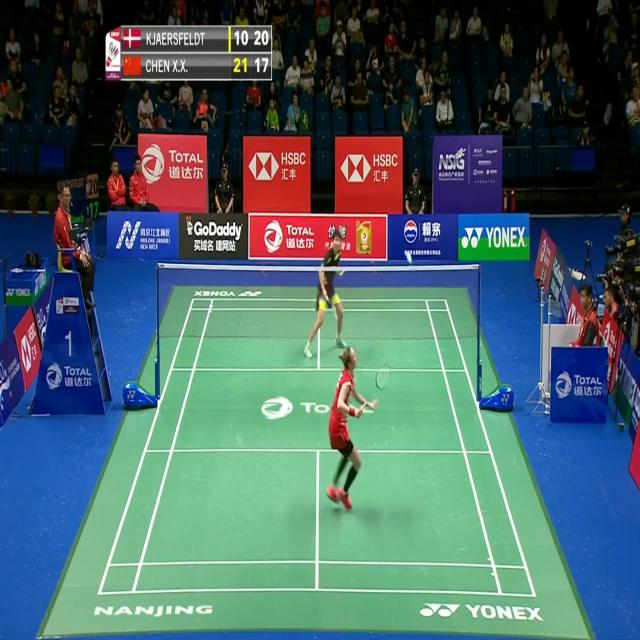Player1: (322, 335, 396, 515)
Player2: (305, 226, 351, 360)
